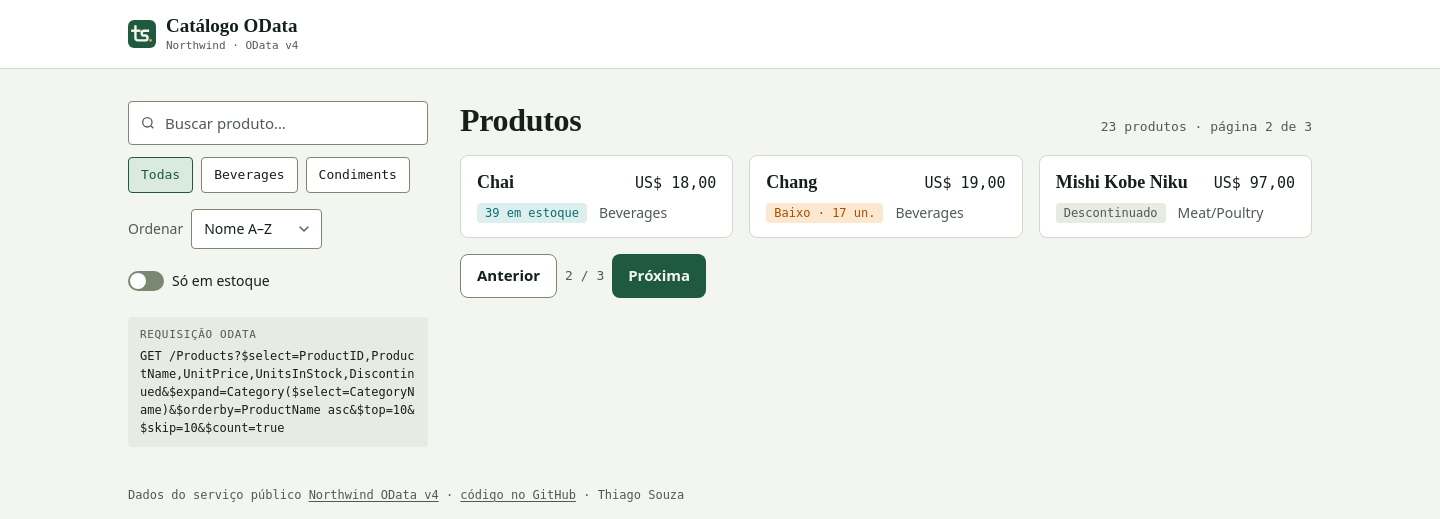
Test: product list › writes a category filter to the URL and to the request
Click the button "Condiments".
click(358, 175)  # box [306,157,410,193]
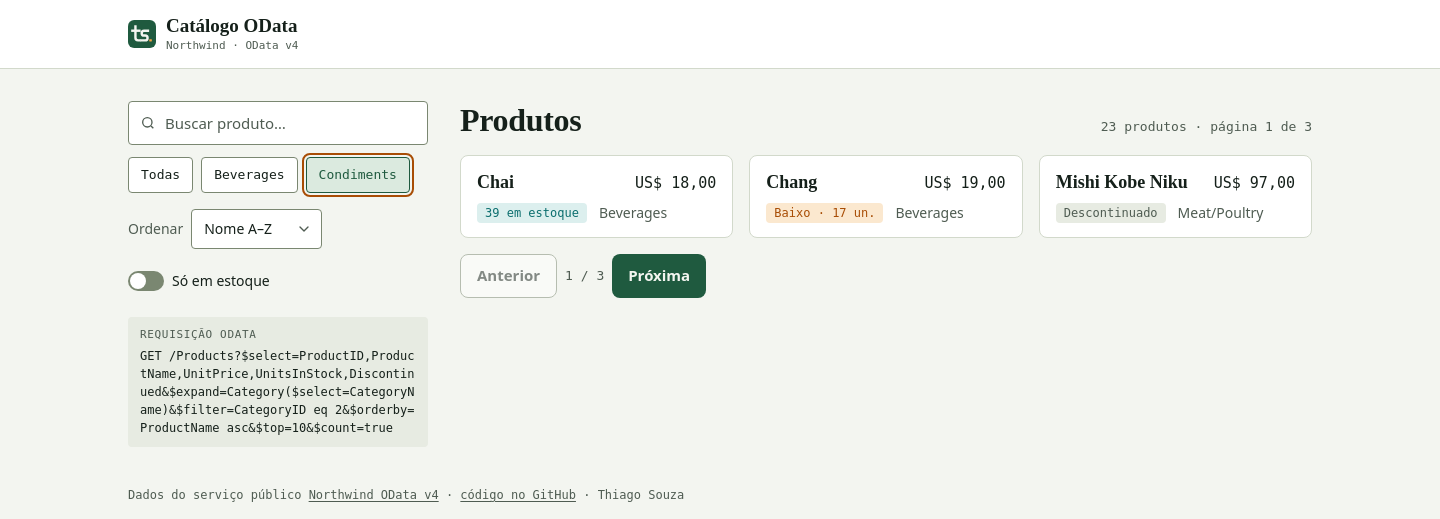
expect the element "Requisição OData" shows "$filter=CategoryID eq 2": met, box [140,349,414,435]
